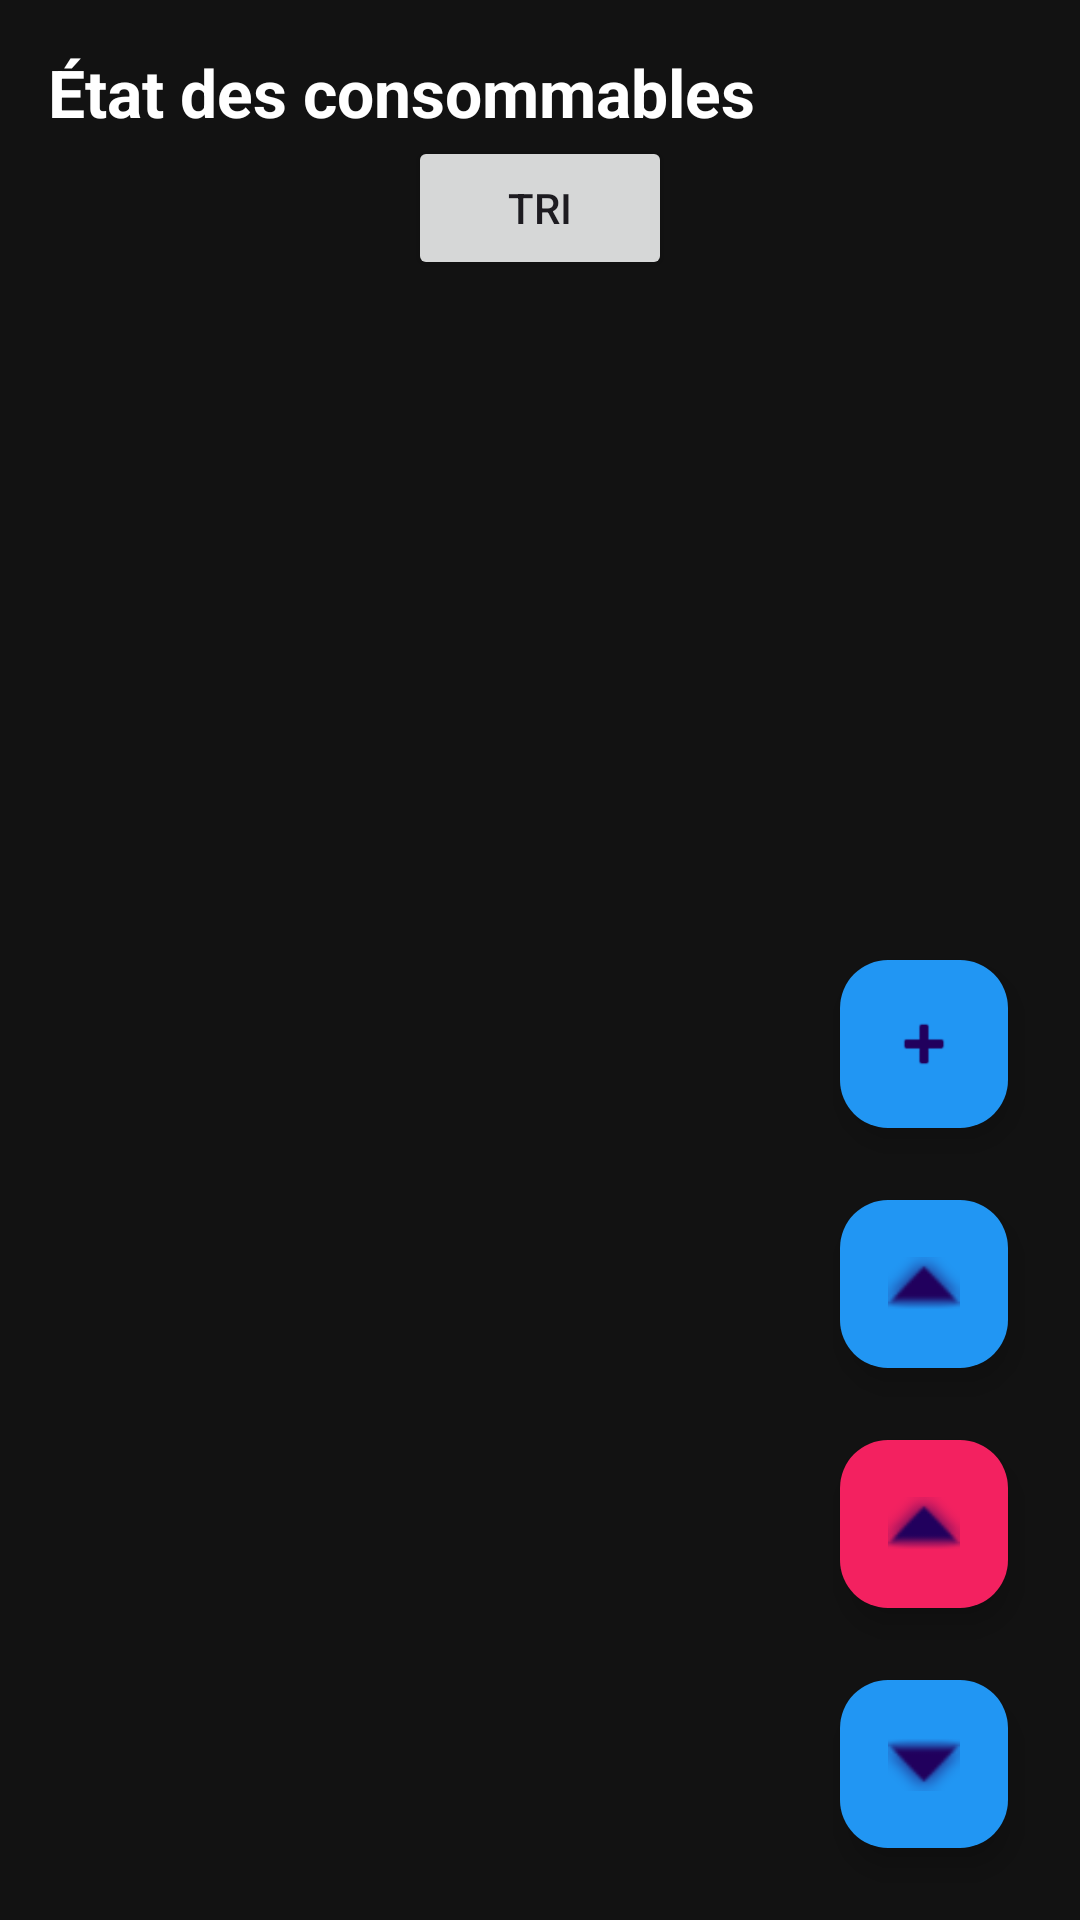

Point at icon controls on the screen. Image size 1080px x 1920px, points as [x,y].
add: [924,1044]
arrow down float: [924,1764]
arrow up float: [924,1284], [924,1524]
